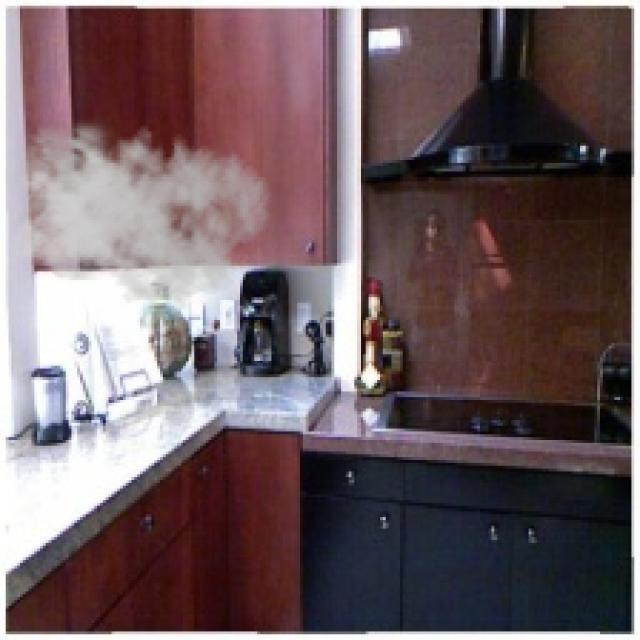Smoke: (2, 111, 272, 312)
